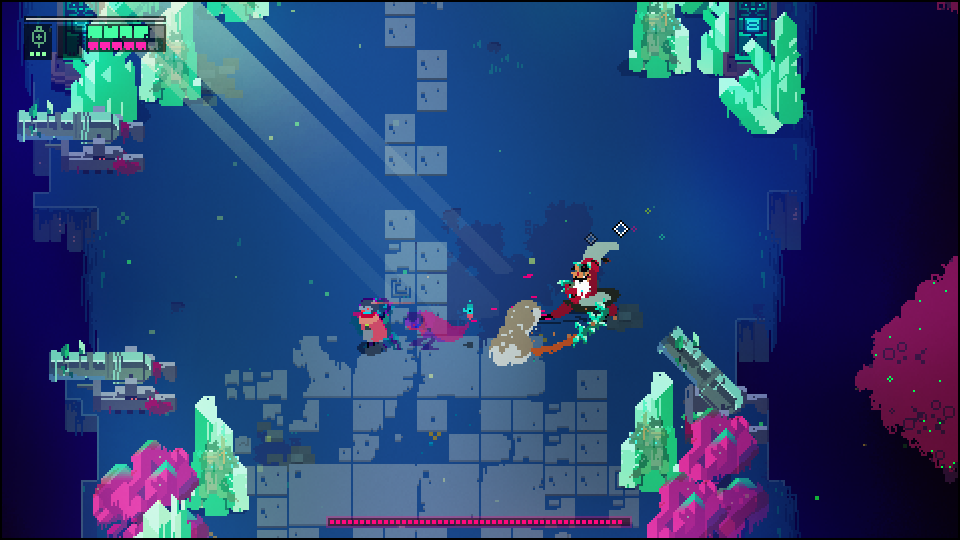hanged_man: (549, 230, 622, 351)
player: (351, 299, 391, 344)
